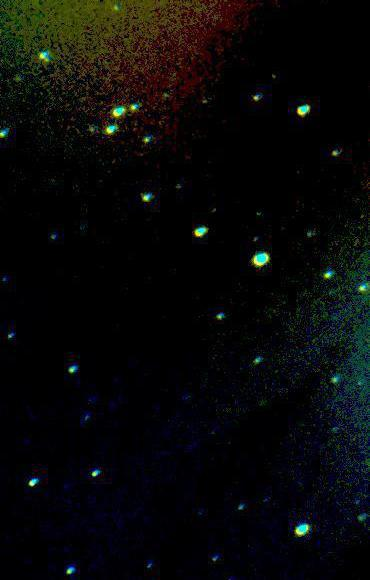star: (247, 382, 277, 412)
